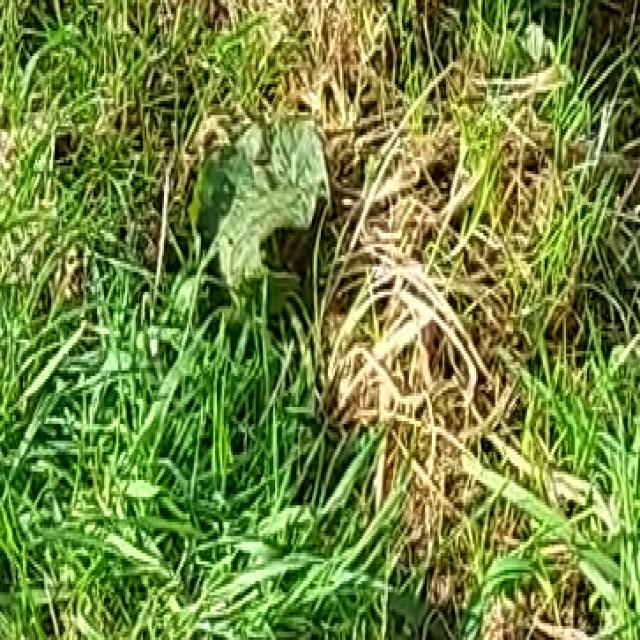organic waste: (136, 81, 344, 351)
